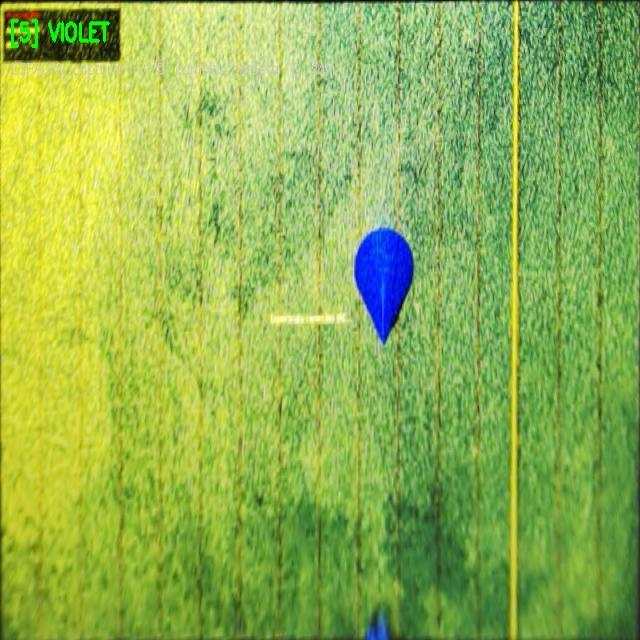violet: (355, 227, 411, 344)
